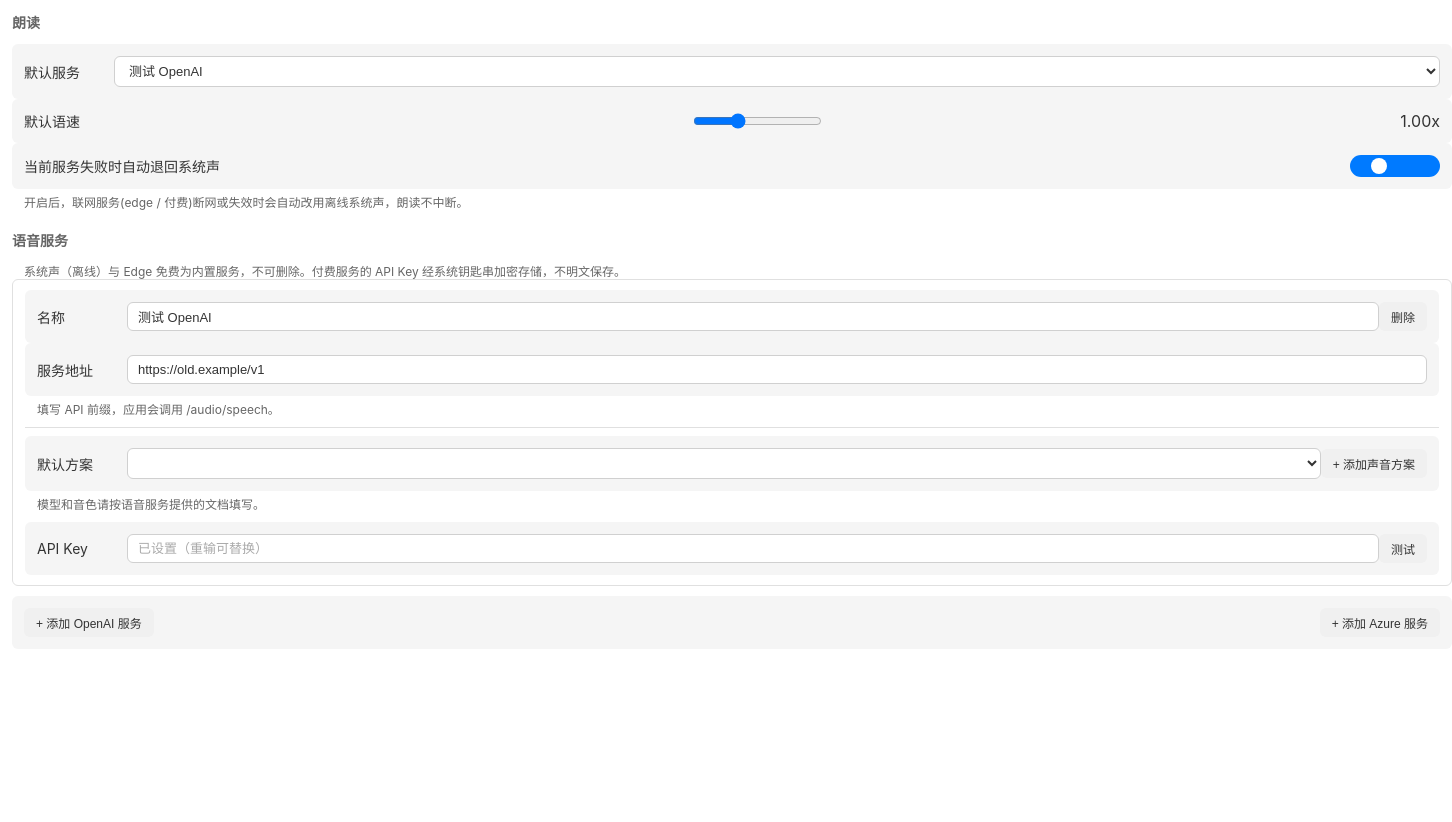
ReadAloudSettingsTab 连接测试 › 配置保存失败时停止测试连接
Click the button "测试" at (1403, 548), box [1379,534,1427,563]
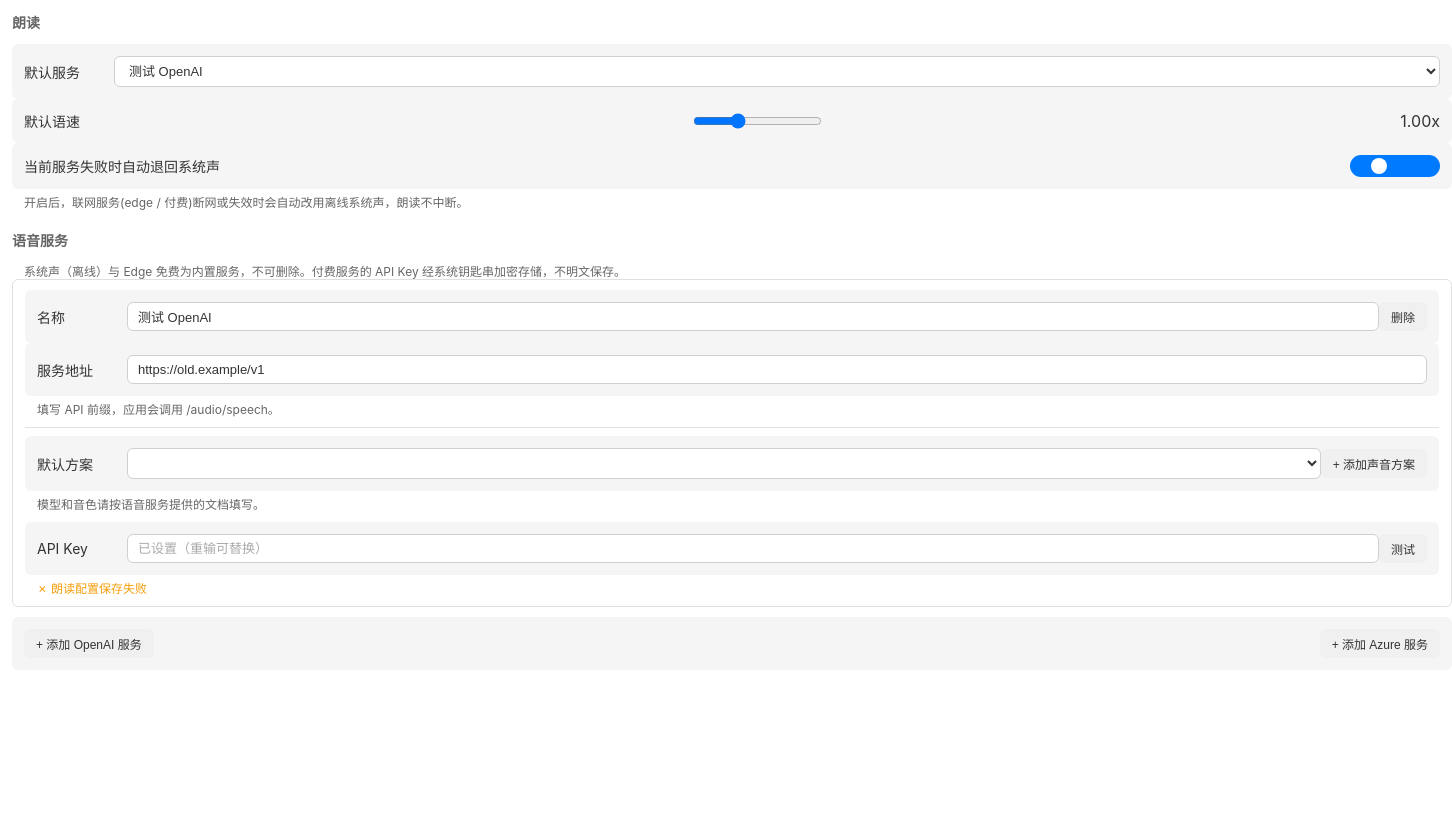
Now the text "✗ 朗读配置保存失败" is shown, box [37,581,147,596]
